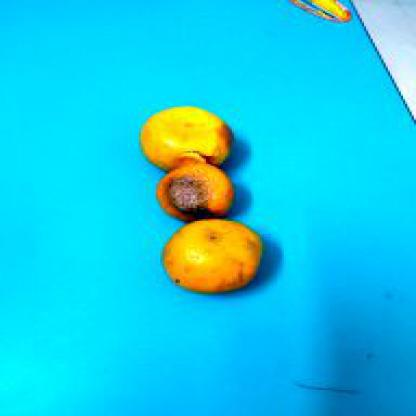orange_rotten: (158, 220, 264, 292), (134, 102, 234, 169), (154, 162, 234, 223)
